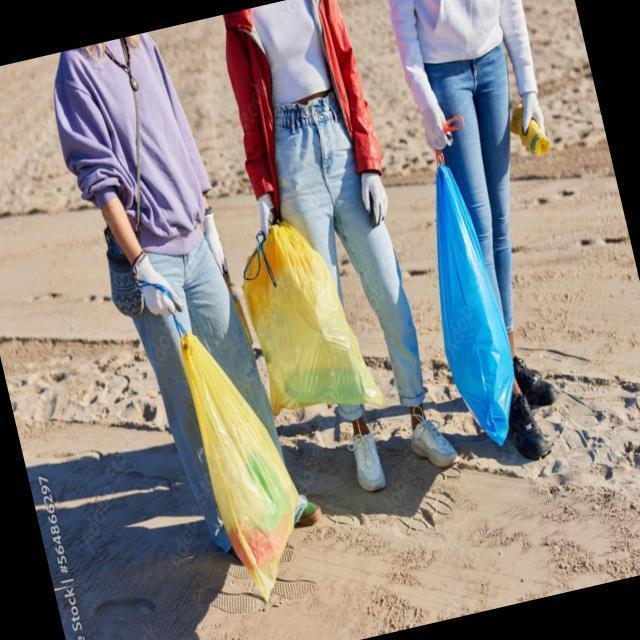Garbage_Bag: (143, 256, 324, 607), (232, 204, 388, 435)
